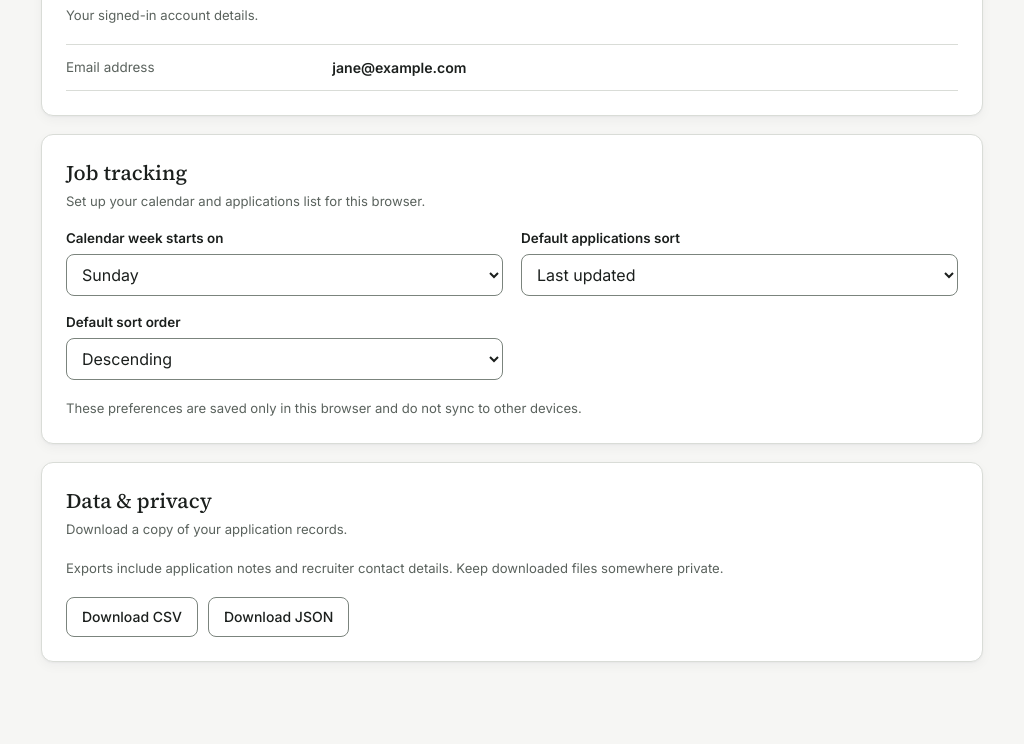
SettingsPage › downloads an application export and reports completion
The image size is (1024, 744).
(page scrolled)
Step 1. Click the button "Download CSV" → point(132, 617), box [66,597,198,637]
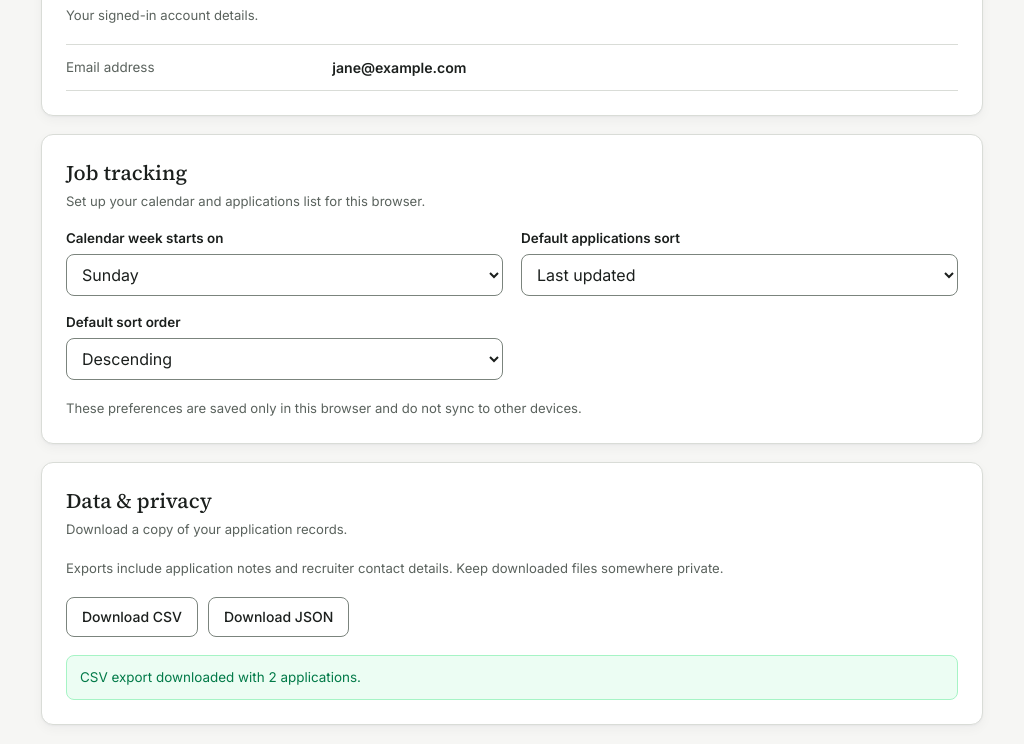
Result: the message reads "CSV export downloaded with 2 applications." at [80,669,361,685]
